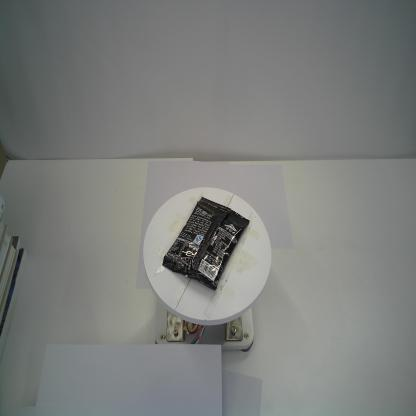Instant Drink: (162, 195, 250, 292)
